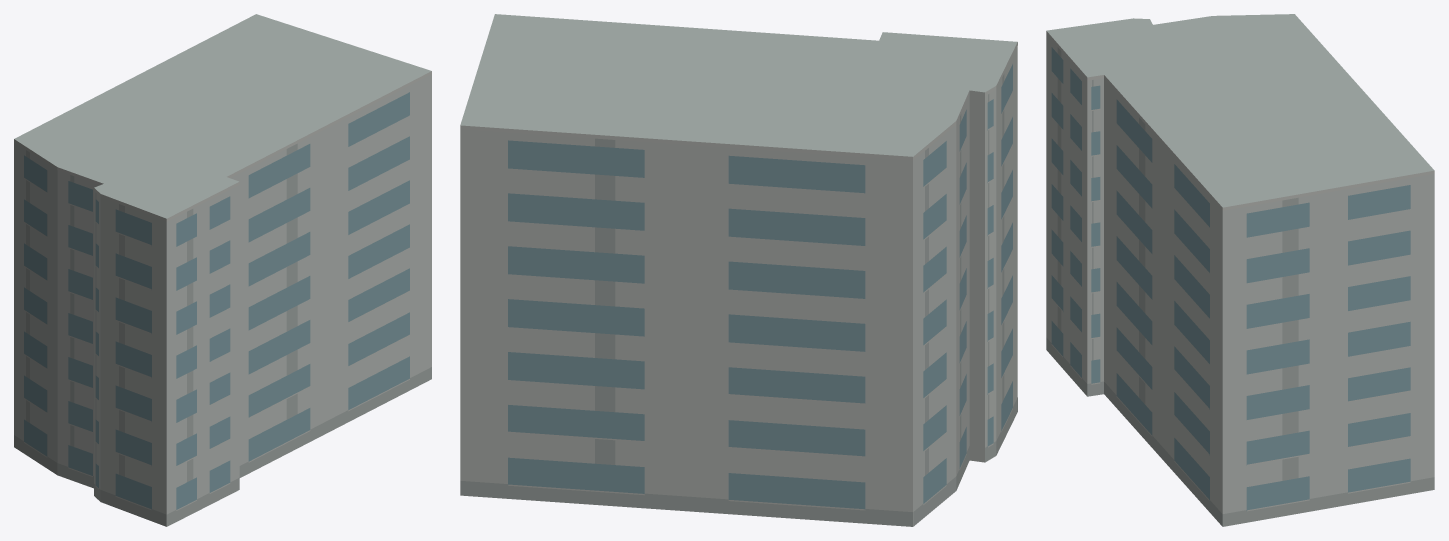
The model's file is survey-upis-32526752.glb.
3 views of the same model, side by side, from view 1: azimuth 30°, elevation 25°; view 2: azimuth 150°, elevation 25°; view 3: azimuth 270°, elevation 25° (orthographic). The views are drawn at different scales.
Parts seen in each view (by area): view 1: survey-upis-32526752.tmp; view 2: survey-upis-32526752.tmp; view 3: survey-upis-32526752.tmp.
Boxes of the visible parts, bbox=[...] form: survey-upis-32526752.tmp: bbox=[14, 14, 431, 526]; survey-upis-32526752.tmp: bbox=[460, 14, 1017, 526]; survey-upis-32526752.tmp: bbox=[1046, 14, 1434, 526].
Bounding box in the file's own units: 30.77 × 23.65 × 26.08.
